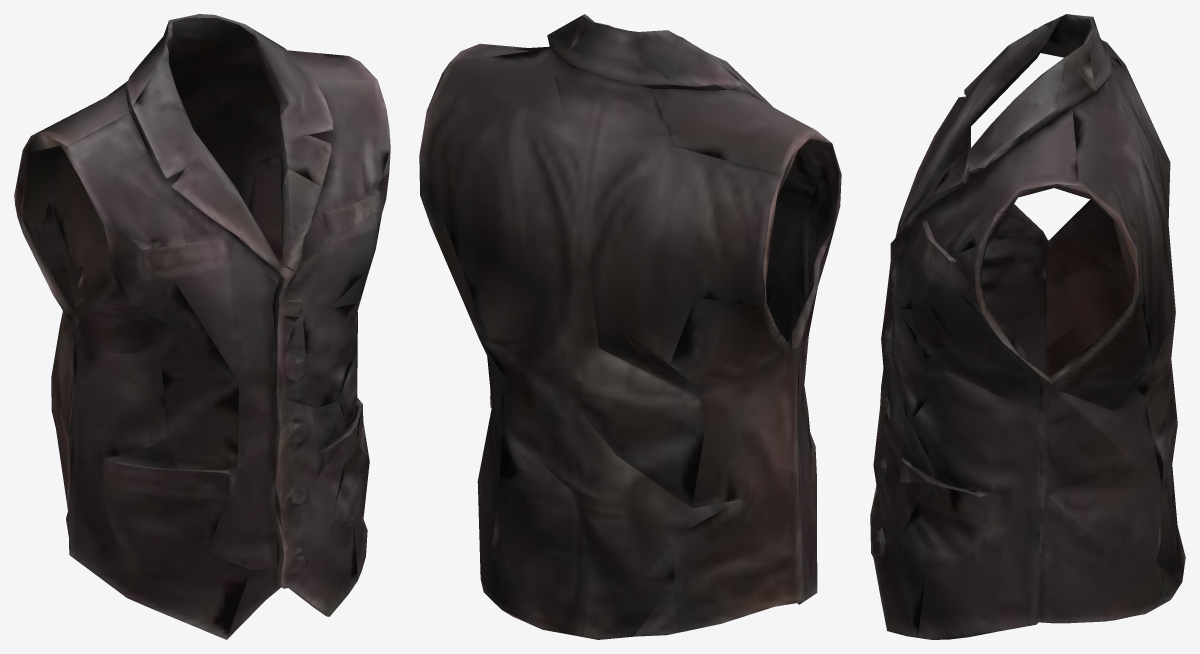
File: cuero.glb
3 views of the same model, side by side, from view 1: azimuth 30°, elevation 25°; view 2: azimuth 150°, elevation 25°; view 3: azimuth 270°, elevation 25° (orthographic). The views are drawn at different scales.
Parts seen in each view (by area): view 1: Object_4; view 2: Object_4; view 3: Object_4.
Boxes of the visible parts, x1,y1,x2,y2 form: Object_4: [14, 14, 390, 639]; Object_4: [419, 14, 841, 639]; Object_4: [870, 14, 1185, 639].
Size of the model in its own units: 0.5951 by 0.9995 by 0.4913.
1 material, 1 textured.
